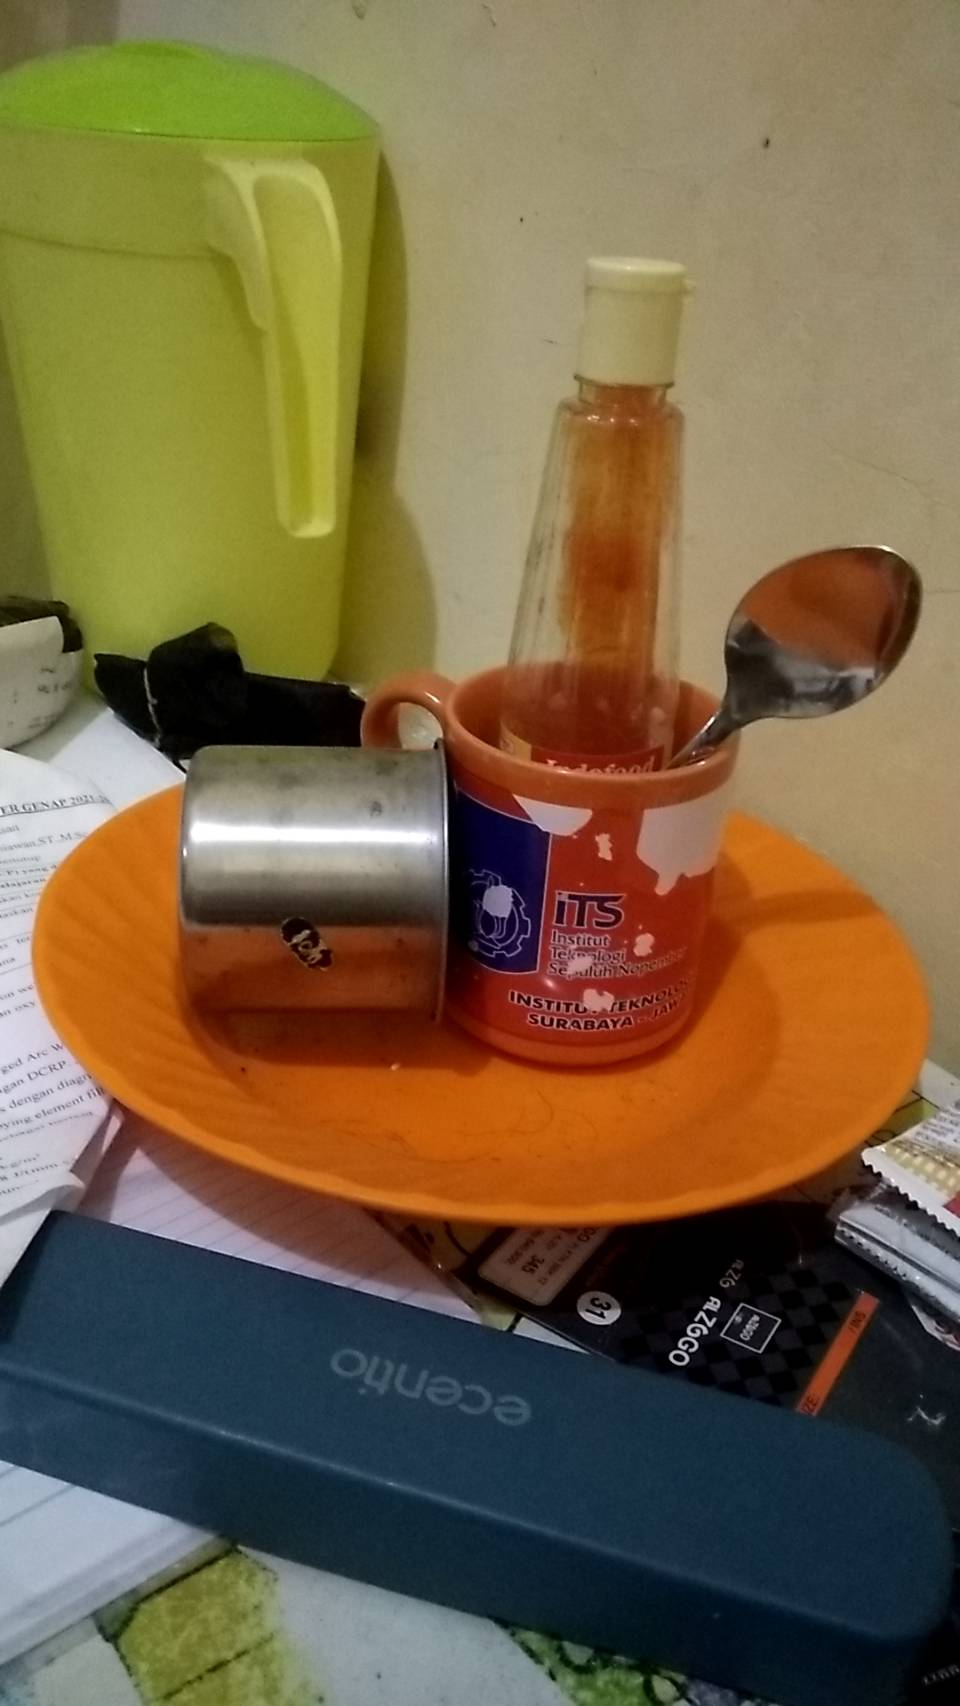piring: (29, 750, 938, 1217)
